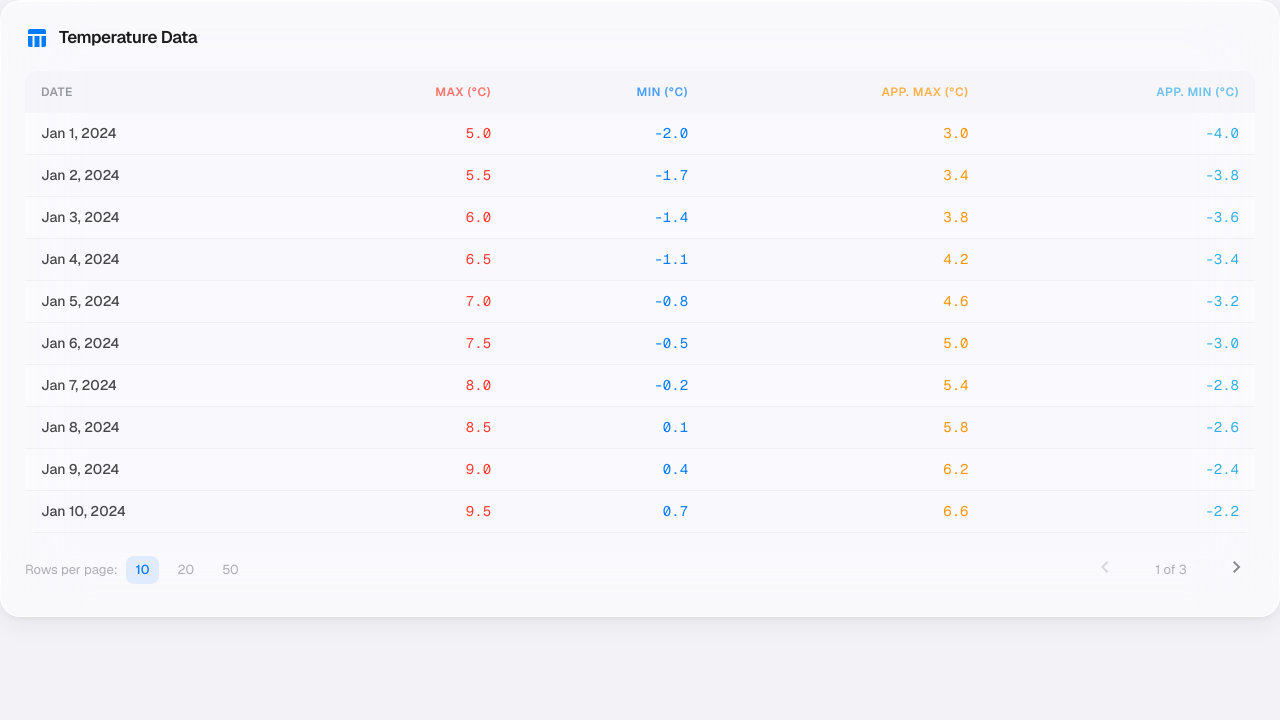
Test: TemperatureTable › paginates correctly
This screenshot has width=1280, height=720.
Expected: the text "1 of 3" is shown, [1155,561,1187,578]
What coordinates should you click on to do the following:
click the 2nd button "chevron_right"
I would click on:
 (1237, 570)
Its box is [1219,548,1255,592].
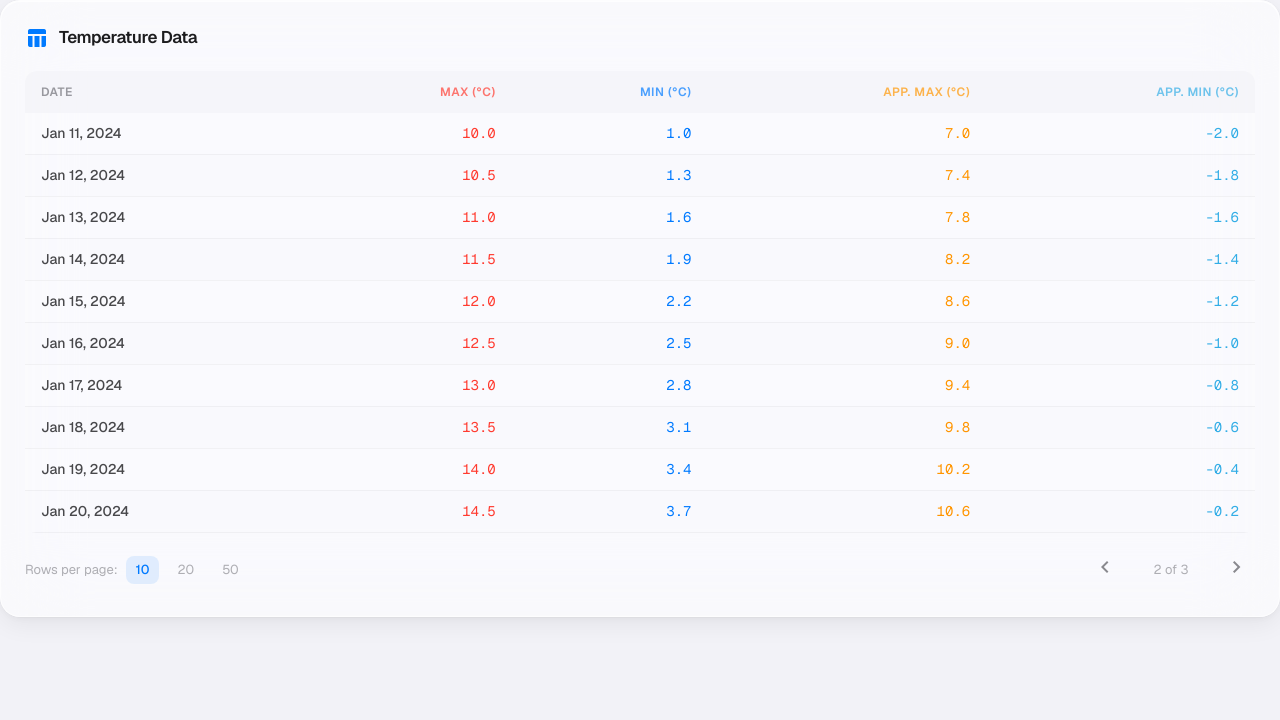
Expected: the text "2 of 3" is shown, [1154,561,1188,578]
